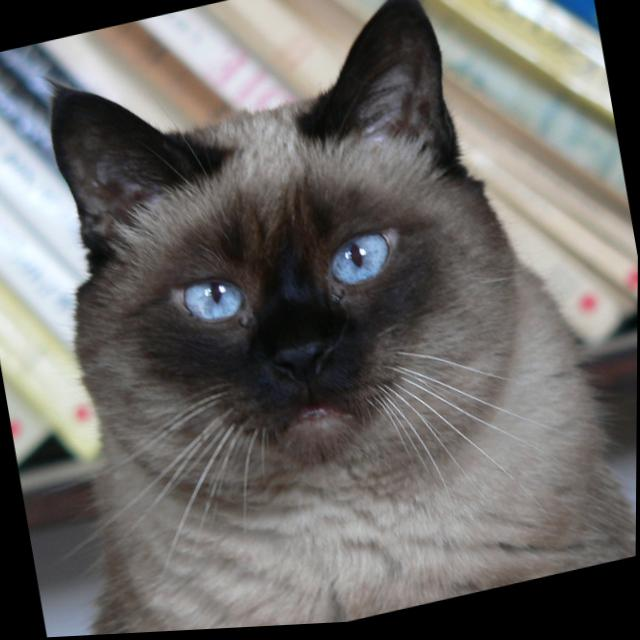animals: (54, 0, 491, 425)
